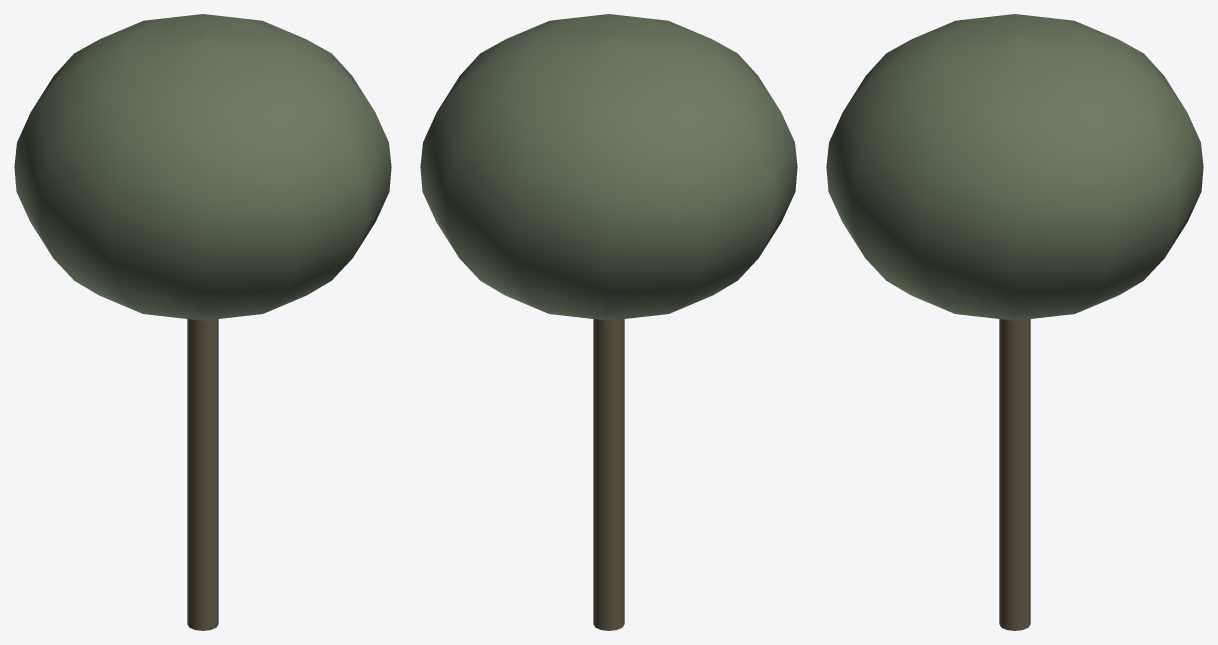
The model's file is Date_Palm_Analytical_0.obj.
The picture shows the model from 3 angles, left to right: view 1: azimuth 30°, elevation 25°; view 2: azimuth 150°, elevation 25°; view 3: azimuth 270°, elevation 25°; orthographic projection.
Visible parts, largest first — view 1: AnalyticalCrown, AnalyticalTrunk; view 2: AnalyticalCrown, AnalyticalTrunk; view 3: AnalyticalCrown, AnalyticalTrunk.
Boxes of the visible parts, x1,y1,x2,y2 form: AnalyticalCrown: (14, 14, 391, 320); AnalyticalTrunk: (187, 319, 218, 630); AnalyticalCrown: (420, 14, 797, 320); AnalyticalTrunk: (593, 319, 624, 630); AnalyticalCrown: (826, 14, 1203, 320); AnalyticalTrunk: (999, 319, 1030, 630).
Size of the model in its own units: 13.12 by 22.5 by 13.12.
